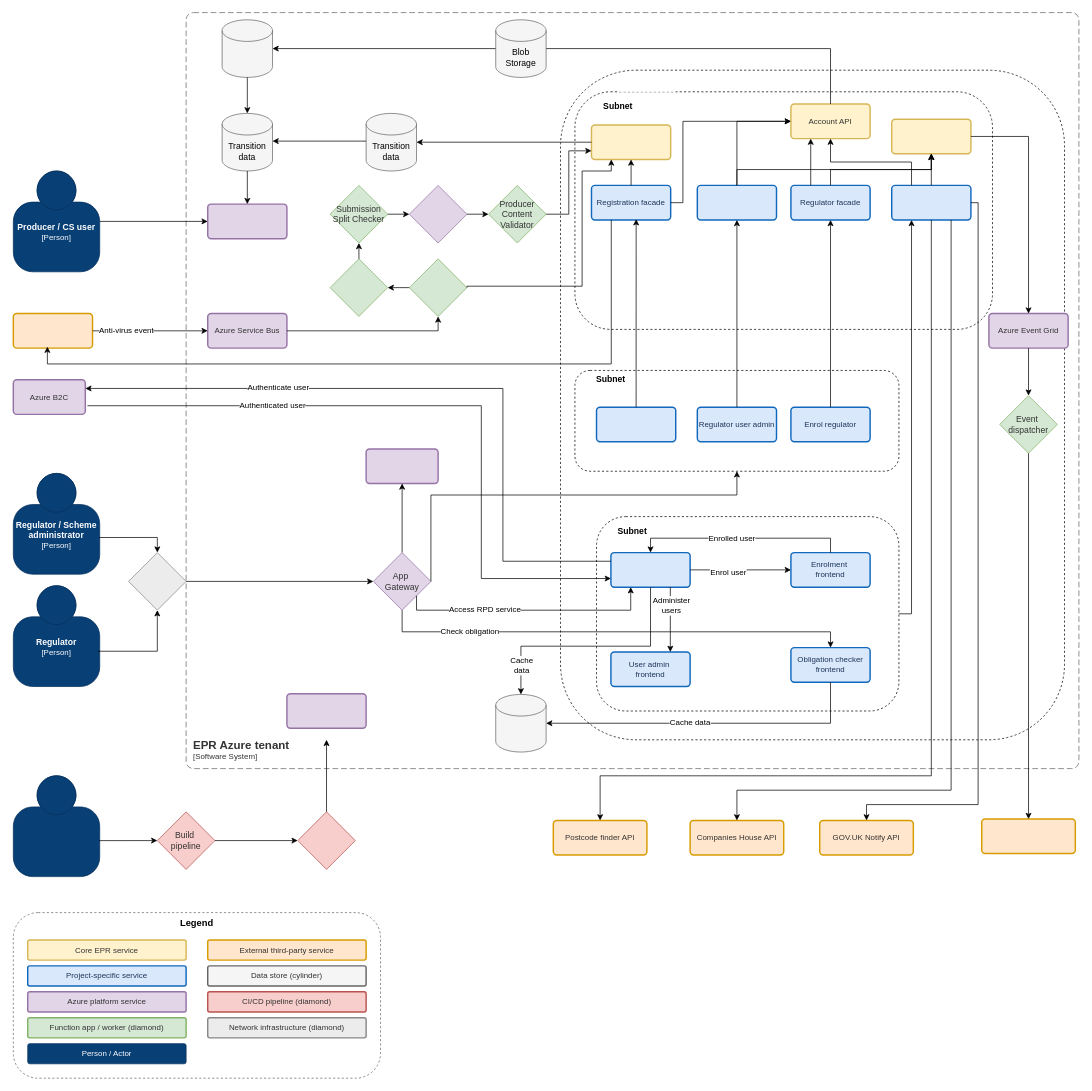
This 1092x1091 diagram has some shape labels left out. The centre of each missing label's shape, as x and y in pixels:
"Account data (SQL)" goes at point 247,48.
"Account facade" goes at point 931,202.
"Anti-virus scan" goes at point 438,214.
"Azure CDN" goes at point 401,466.
"Azure VNet" goes at point 646,84.
"Container registry" goes at point 326,711.
"Deployment pipeline" goes at point 326,840.
"Developer [Person]" goes at point 56,826.
"Power BI" goes at point 247,221.
"Process anti-virus event" goes at point 438,287.
"Process submission" goes at point 358,287.
"Protective monitoring service" goes at point 931,136.
"Redis Cache" goes at point 520,723.
"Registration API" goes at point 630,142.
"Regulator account facade" goes at point 736,202.
"Regulator frontend" goes at point 635,424.
"RPD frontend" goes at point 650,570.
"RWD Web API Gateway" goes at point 52,330.
"Silverline F5" goes at point 157,581.
"SOC events" goes at point 1028,836.
